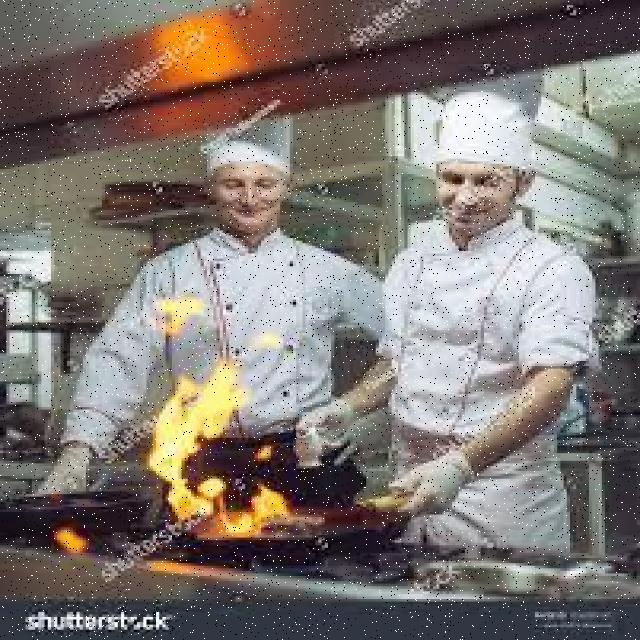fire: (134, 300, 308, 570)
